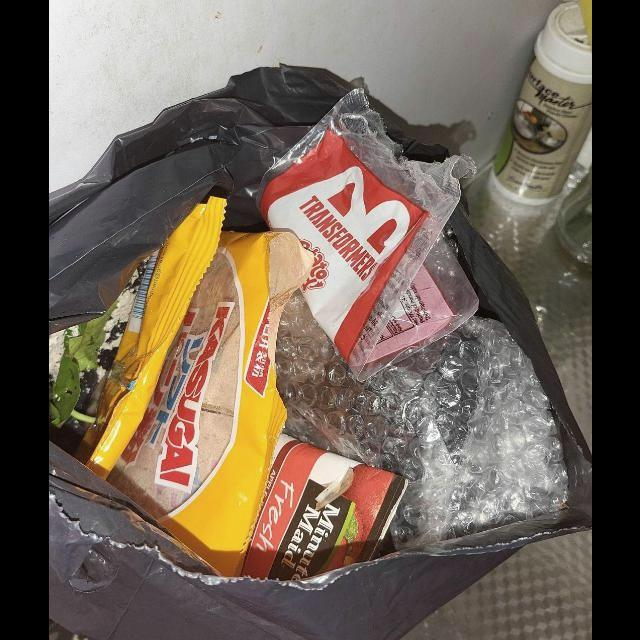food_wrapper: (76, 197, 314, 579), (256, 89, 480, 376)
plastic_bag: (275, 290, 568, 557)
